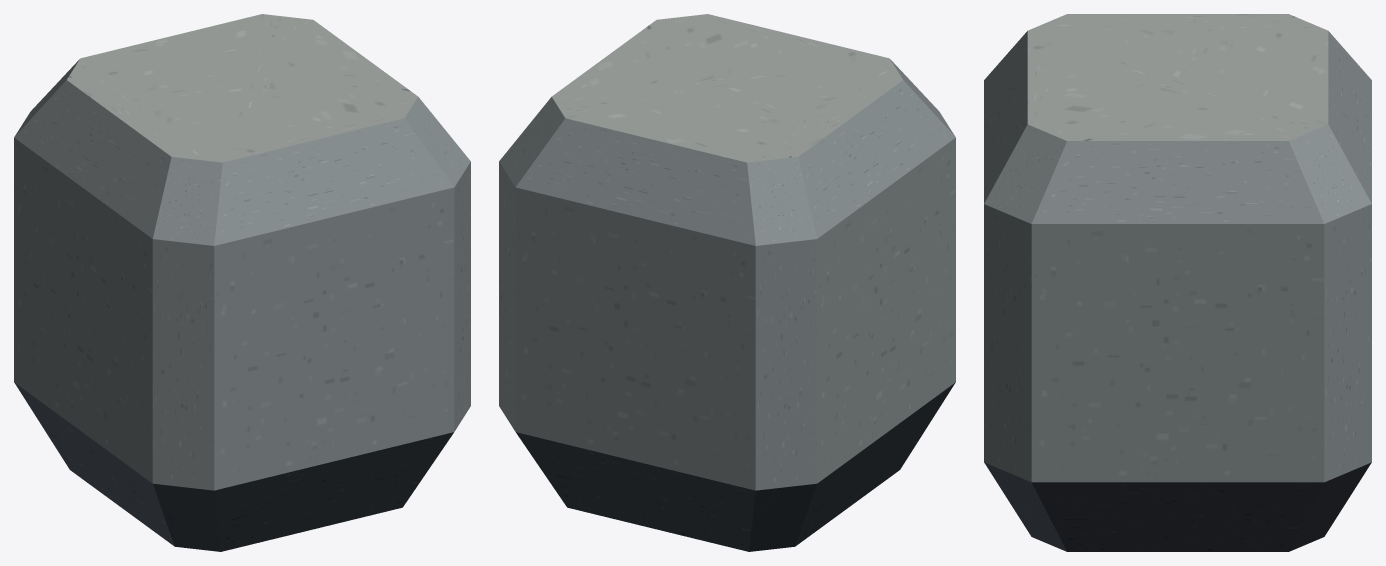
The model's file is DockCorner.fbx.
The picture shows the model from 3 angles, left to right: view 1: azimuth 30°, elevation 25°; view 2: azimuth 150°, elevation 25°; view 3: azimuth 270°, elevation 25°; orthographic projection. The views are drawn at different scales.
Visible parts, largest first — view 1: DockCorner; view 2: DockCorner; view 3: DockCorner.
Boxes of the visible parts, bbox=[...] form: DockCorner: bbox=[14, 14, 470, 551]; DockCorner: bbox=[499, 14, 955, 551]; DockCorner: bbox=[984, 14, 1371, 551].
Bounding box in the file's own units: 98 × 115 × 98.
